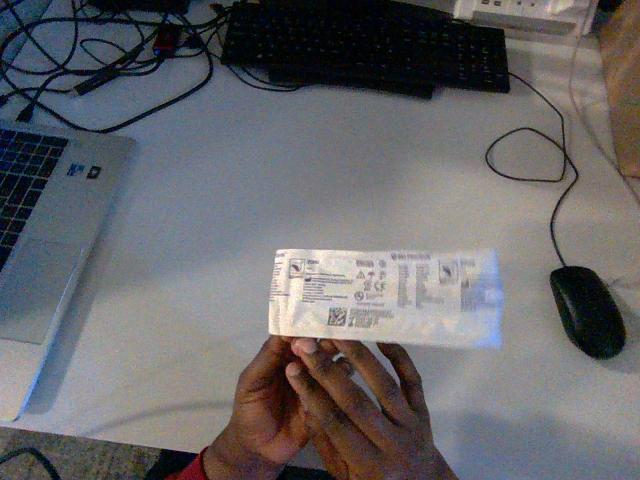syringe: (269, 249, 502, 346)
